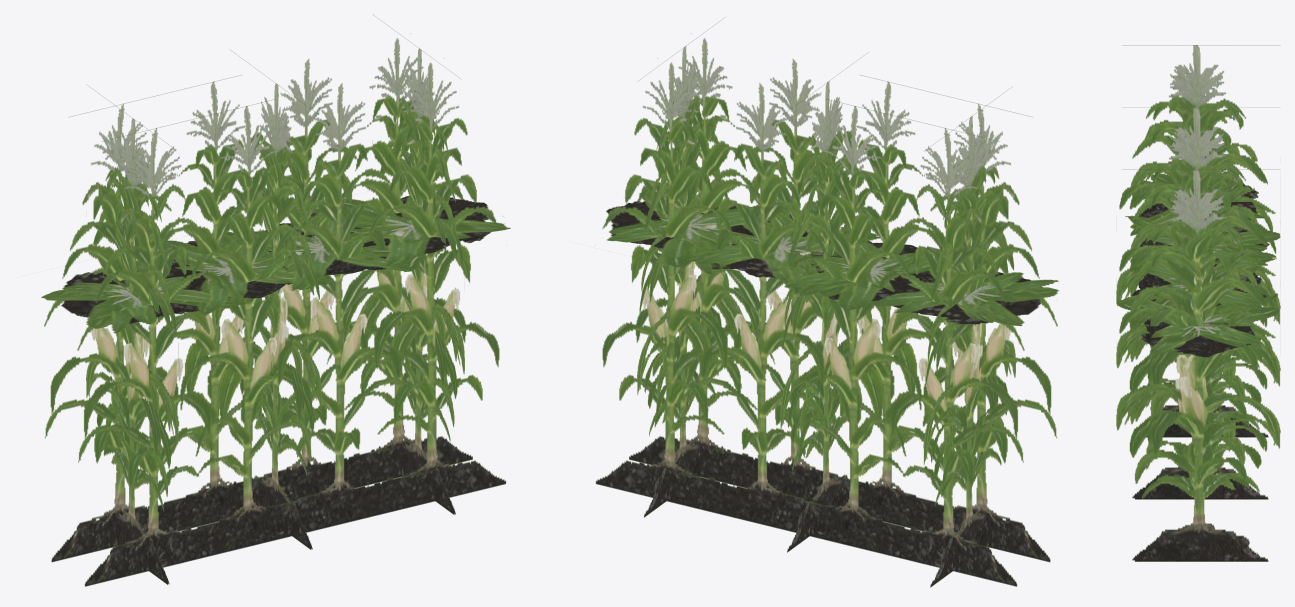
The model's file is maize-row-far.glb.
The picture shows the model from 3 angles, left to right: view 1: azimuth 30°, elevation 25°; view 2: azimuth 150°, elevation 25°; view 3: azimuth 270°, elevation 25°; orthographic projection. The views are drawn at different scales.
Visible parts, largest first — view 1: cards; view 2: cards; view 3: cards.
Part boxes in pixels (<box>): cards: <box>41,15,510,586</box>; cards: <box>595,18,1058,587</box>; cards: <box>1116,45,1280,561</box>.
Size of the model in its own units: 2.04 by 2 by 0.759.
Materials: 1 (1 with a texture image).
